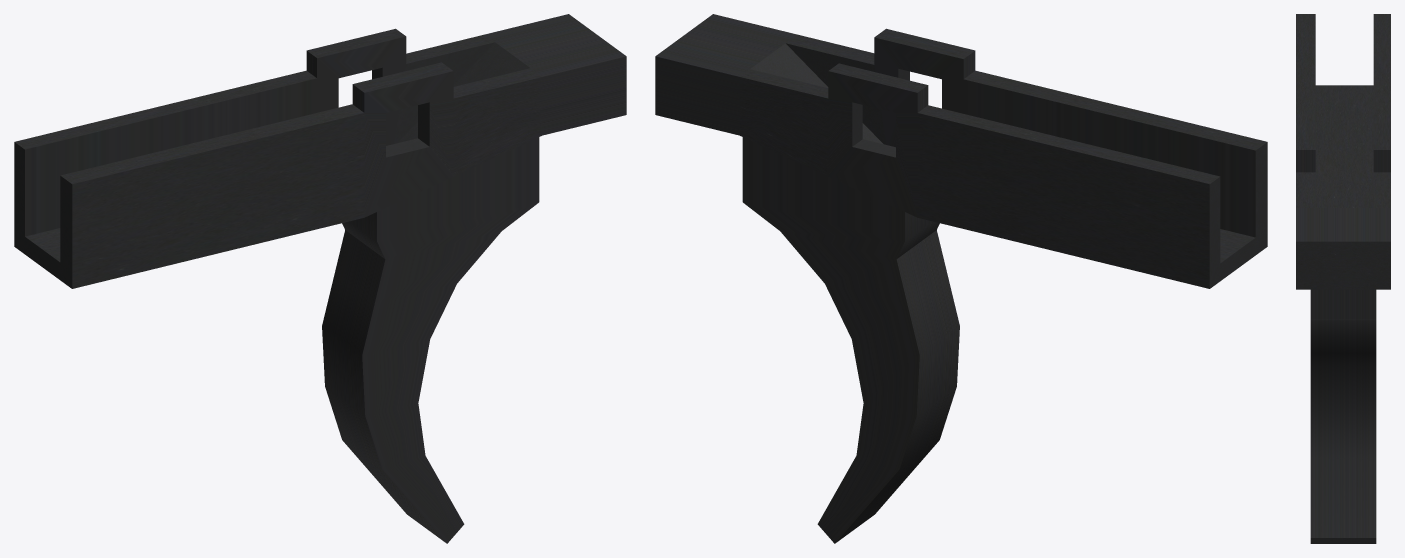
File: Trigger.dae
The picture shows the model from 3 angles, left to right: view 1: azimuth 30°, elevation 25°; view 2: azimuth 150°, elevation 25°; view 3: azimuth 270°, elevation 25°; orthographic projection. The views are drawn at different scales.
Parts seen in each view (by area): view 1: Trigger; view 2: Trigger; view 3: Trigger.
Boxes of the visible parts, x1=… form: Trigger: x1=14, y1=14, x2=626, y2=543; Trigger: x1=655, y1=14, x2=1267, y2=543; Trigger: x1=1296, y1=14, x2=1390, y2=543.
Bounding box in the file's own units: 0.0486 × 0.00879 × 0.0402.
1 material, 1 textured.
